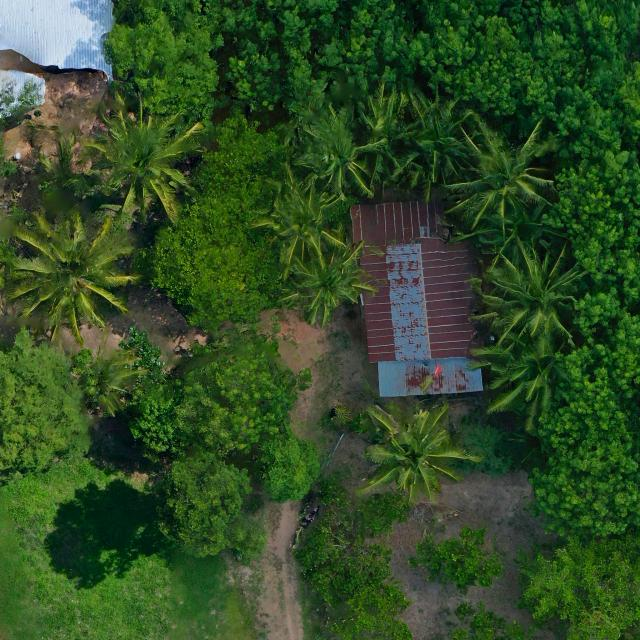Tree: (227, 0, 640, 120), (529, 116, 640, 536), (8, 212, 145, 346), (172, 334, 308, 458), (146, 202, 273, 330), (83, 90, 208, 213), (93, 9, 226, 118), (513, 531, 640, 640), (360, 401, 486, 508), (0, 324, 81, 486), (453, 118, 562, 238), (467, 240, 590, 346), (150, 447, 255, 558), (290, 503, 393, 607), (270, 238, 382, 327), (396, 87, 484, 198), (468, 340, 574, 430), (250, 160, 350, 255), (116, 328, 179, 463), (292, 105, 376, 197), (406, 522, 505, 598), (202, 113, 280, 201), (348, 84, 411, 188), (71, 334, 147, 420), (252, 430, 321, 508)
